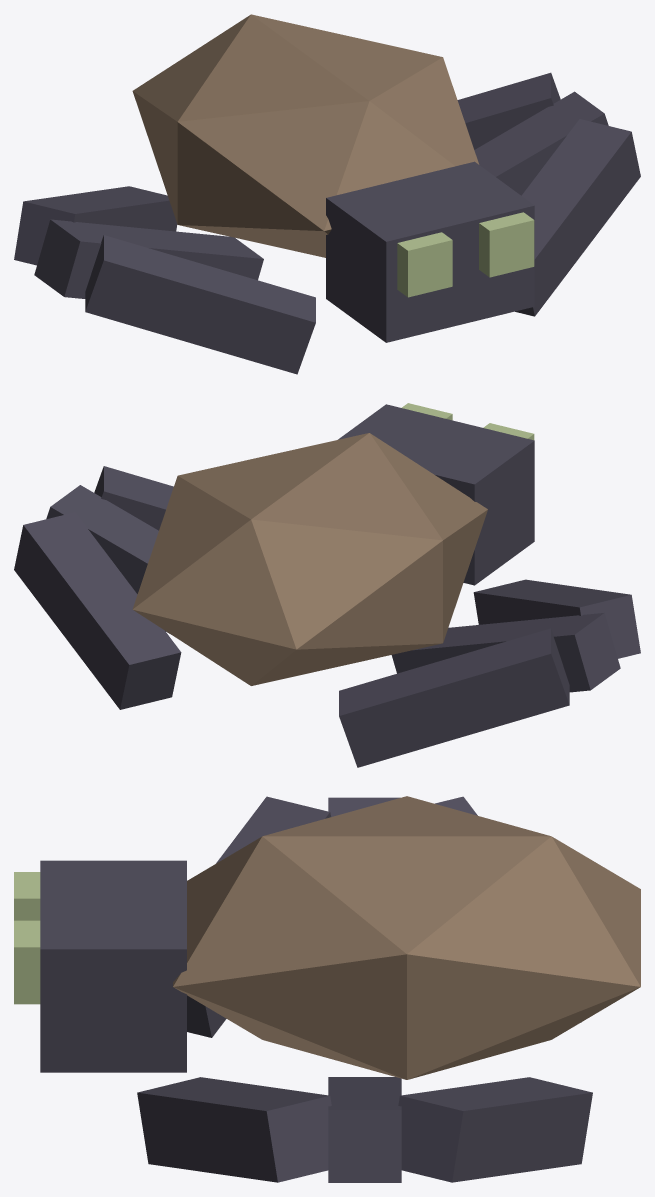
File: skitter.glb
3 renders of one model, top to bottom at view 1: azimuth 30°, elevation 25°; view 2: azimuth 150°, elevation 25°; view 3: azimuth 270°, elevation 25°, orthographic. The views are drawn at different scales.
Parts seen in each view (by area): view 1: Shell, Head, Leg0R, Leg0L, Leg1R, Leg2R, Leg1L, Leg2L, EyeR, EyeL; view 2: Shell, Leg2R, Leg2L, Head, Leg1R, Leg0R, Leg1L, Leg0L; view 3: Shell, Head, Leg2L, Leg0L, Leg1L, Leg0R, EyeL, EyeR, Leg1R.
Part boxes in pixels (bbox=[...]): Shell: bbox=[132, 14, 479, 257]; Head: bbox=[326, 161, 534, 342]; Leg0R: bbox=[85, 235, 315, 374]; Leg0L: bbox=[515, 119, 640, 316]; Leg1R: bbox=[34, 219, 263, 298]; Leg2R: bbox=[14, 186, 177, 265]; Leg1L: bbox=[474, 91, 608, 195]; Leg2L: bbox=[457, 72, 560, 149]; EyeR: bbox=[397, 232, 452, 297]; EyeL: bbox=[479, 212, 534, 277]; Shell: bbox=[132, 433, 487, 685]; Leg2R: bbox=[339, 628, 569, 767]; Leg2L: bbox=[14, 512, 181, 709]; Head: bbox=[338, 404, 534, 585]; Leg1R: bbox=[391, 613, 620, 692]; Leg0R: bbox=[473, 579, 640, 658]; Leg1L: bbox=[46, 485, 169, 633]; Leg0L: bbox=[94, 466, 173, 530]; Shell: bbox=[173, 796, 640, 1079]; Head: bbox=[40, 860, 186, 1072]; Leg2L: bbox=[398, 1077, 592, 1182]; Leg0L: bbox=[137, 1077, 331, 1182]; Leg1L: bbox=[328, 1077, 401, 1182]; Leg0R: bbox=[187, 796, 330, 1037]; EyeL: bbox=[14, 920, 40, 1004]; EyeR: bbox=[14, 872, 40, 920]; Leg1R: bbox=[328, 797, 400, 816].
Size of the model in its own units: 0.7489 by 0.2706 by 0.5983.
